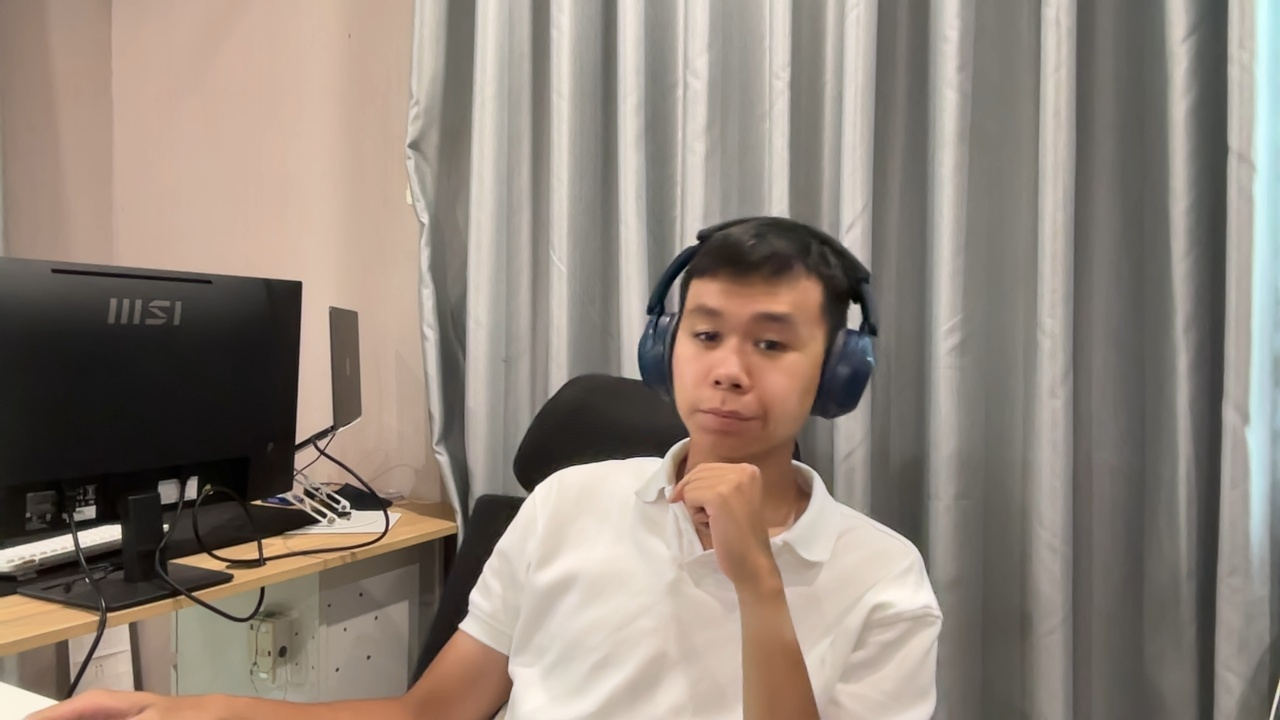over_ear: (639, 216, 879, 426), (636, 216, 880, 415)
